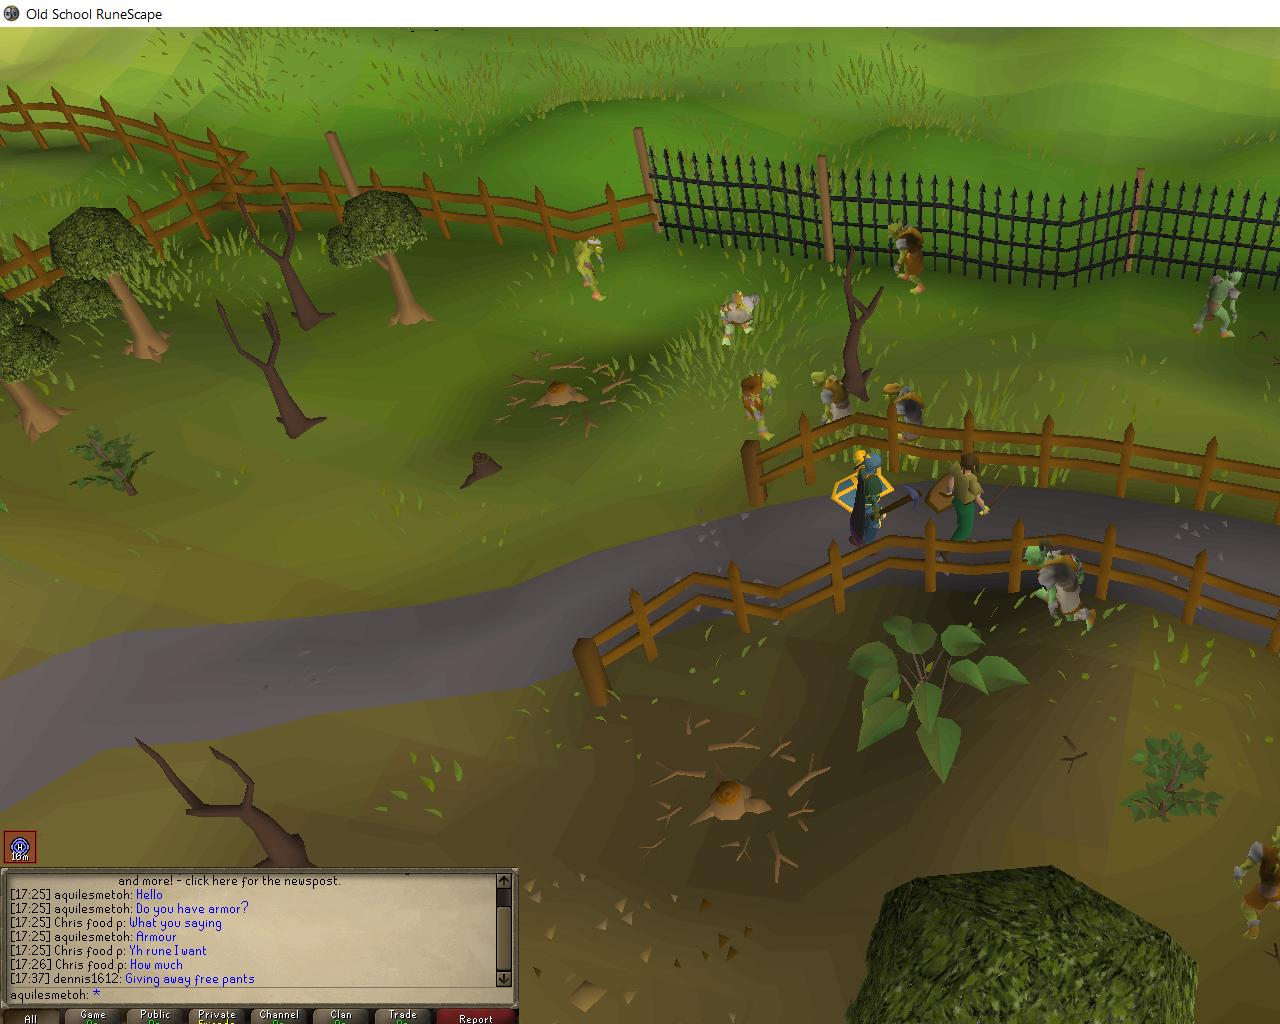Goblin: (1019, 538, 1106, 637), (1225, 821, 1280, 947), (1189, 260, 1248, 346), (880, 379, 932, 465), (881, 219, 936, 297), (804, 366, 857, 443), (735, 367, 784, 444), (563, 234, 611, 302), (715, 287, 763, 348)
